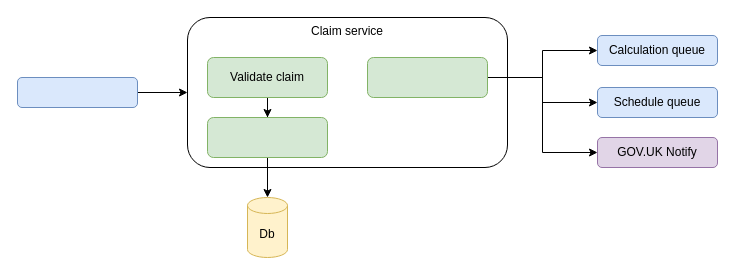
This 735x275 diagram has some shape labels left out. Here are the shapes that lost their labels. From the top down, the centre of each, then its label:
pixel 77 92: Claim queue
pixel 427 77: Publish claim
pixel 267 137: Persist claim
